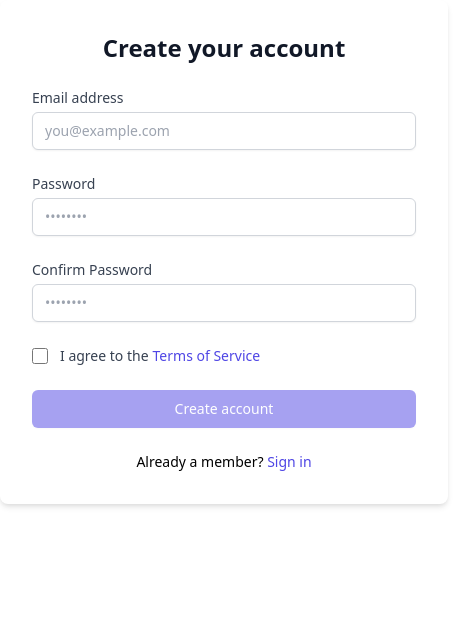
it: RegisterView.vue › displays API error message from authStore on registration failure
Type "existing@example.com" into the field with id "email-register" at (224, 131), box [32,112,416,150]
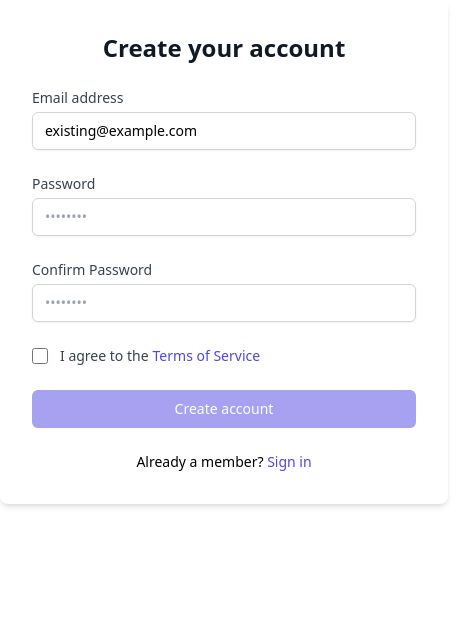
Type "password123" into the password field labelled "Password" at (224, 217), box [32,198,416,236]
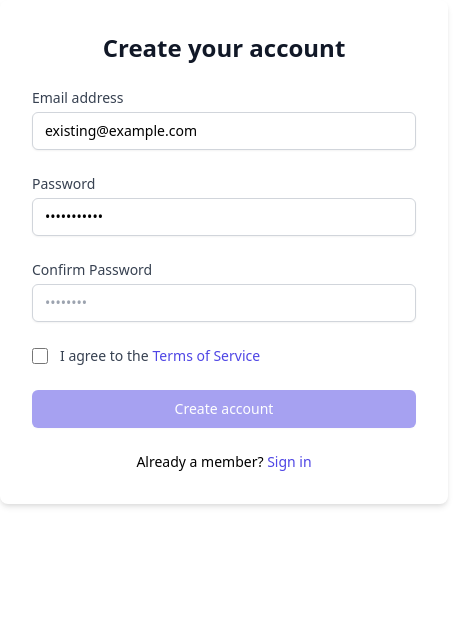
Type "password123" into the password field labelled "Confirm Password" at (224, 303), box [32,284,416,322]
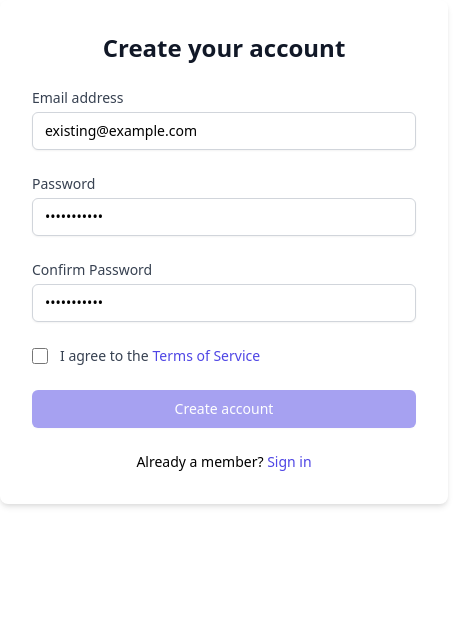
Click the checkbox with id "terms" at (40, 356), box [32,348,48,364]
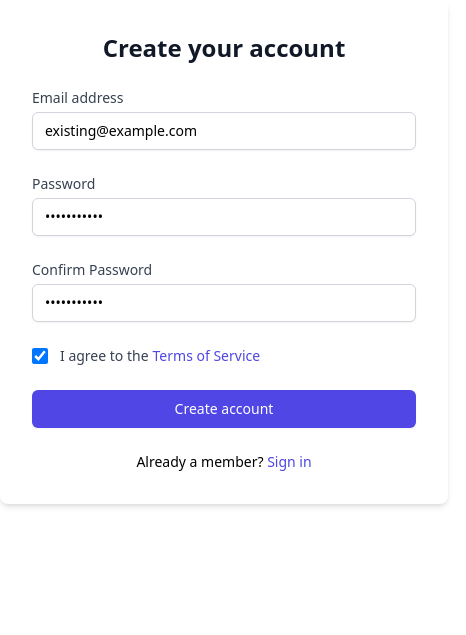
Submit the form, box [32,88,416,428]
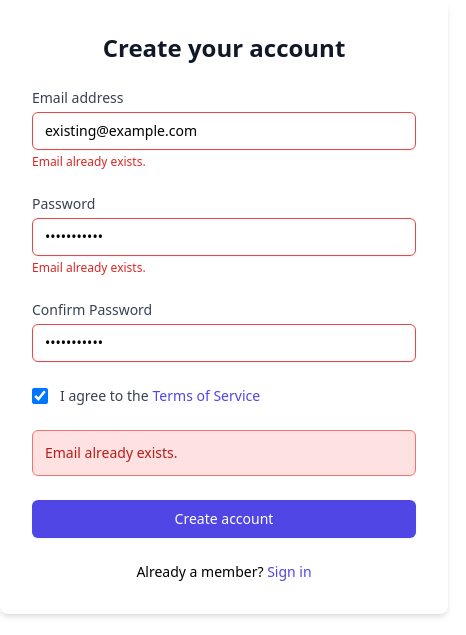
Expected: the 3rd text "Email already exists." is shown, [32,430,416,476]
